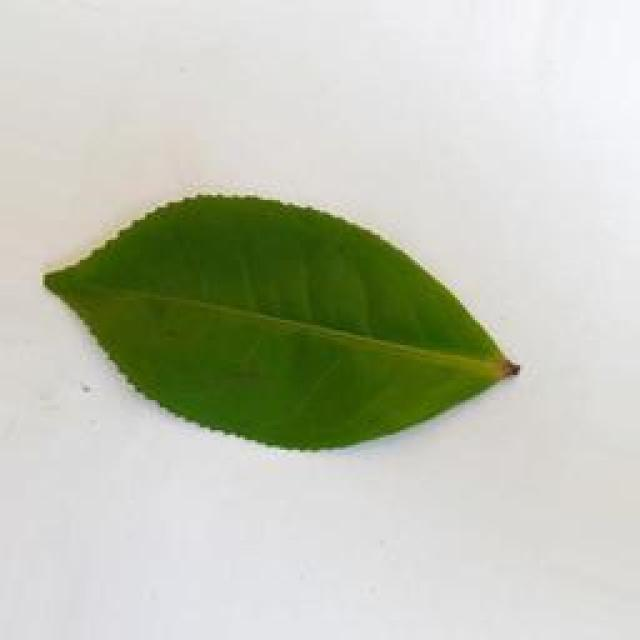Healthy: (34, 181, 502, 428)
